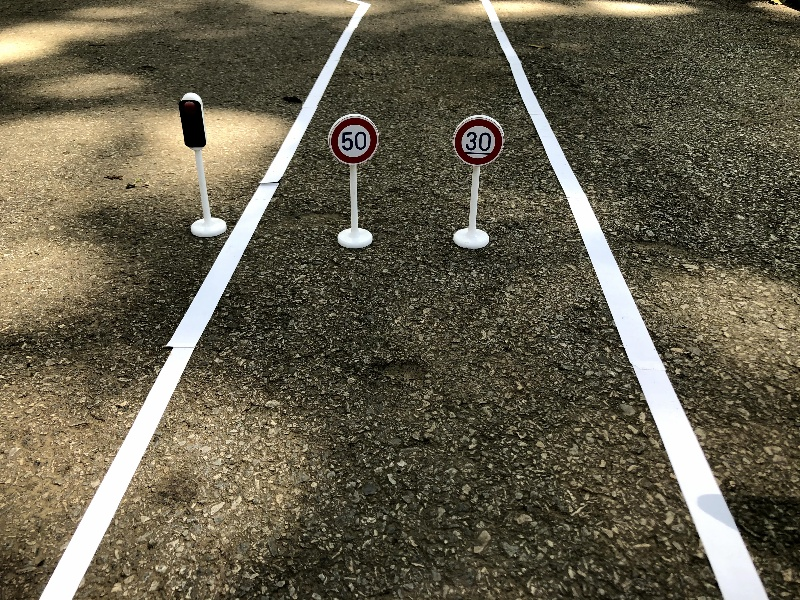Limit 30: (447, 109, 508, 254)
Limit 50: (324, 109, 383, 253)
Red: (176, 90, 235, 240)
